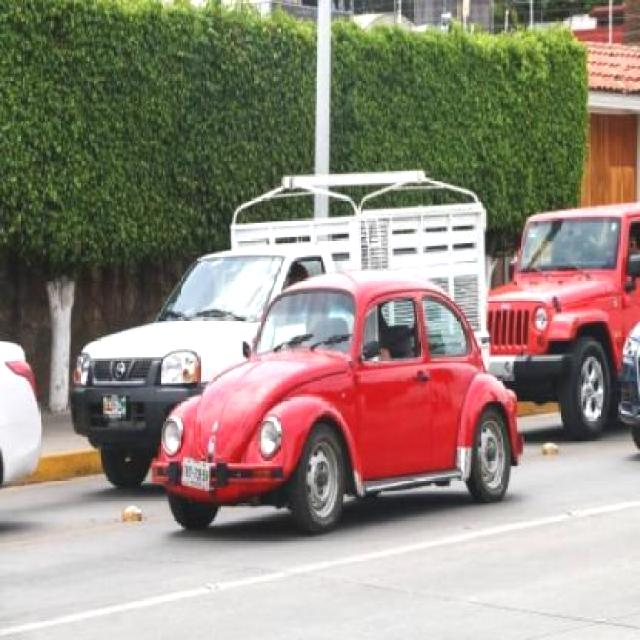car: (63, 248, 485, 473), (149, 273, 526, 516), (488, 217, 640, 424)
